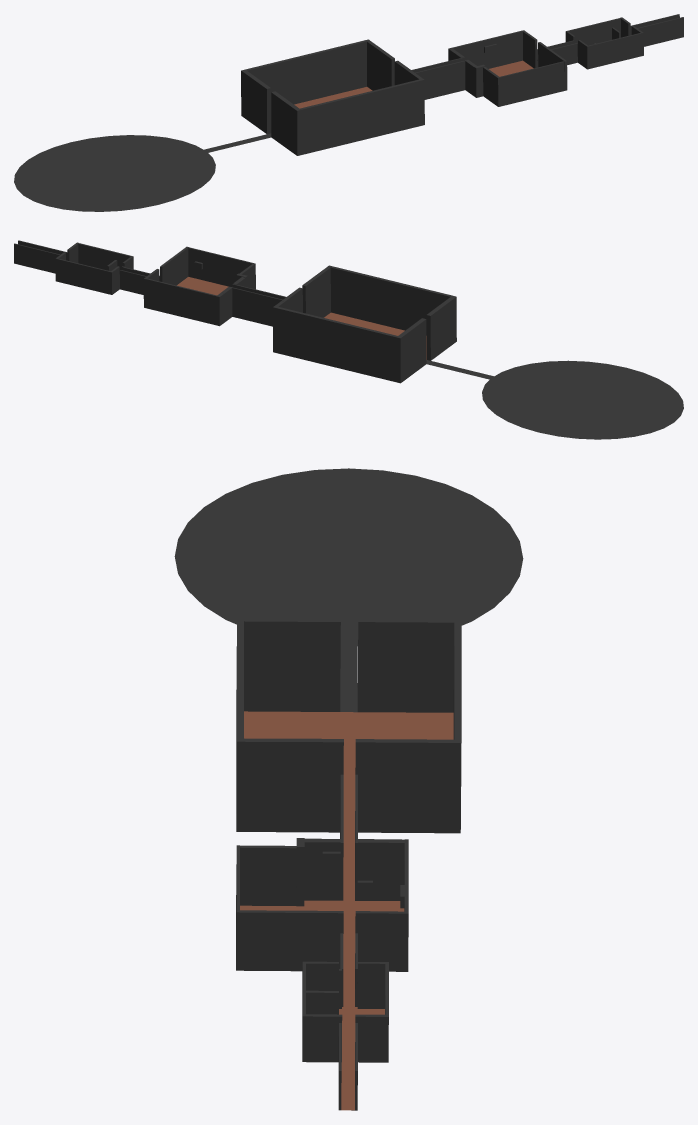
The model's file is Dungeon2.fbx.
3 views of the same model, one above another, from view 1: azimuth 30°, elevation 25°; view 2: azimuth 150°, elevation 25°; view 3: azimuth 270°, elevation 25° (orthographic). The views are drawn at different scales.
Visible parts, largest first — view 1: Cube; view 2: Cube; view 3: Cube.
Boxes of the visible parts, left/top/right/bottom form: Cube: left=14, top=14, right=683, bottom=211; Cube: left=14, top=240, right=683, bottom=439; Cube: left=174, top=468, right=523, bottom=1110.
Bounding box in the file's own units: 104811 × 7019 × 24051.
